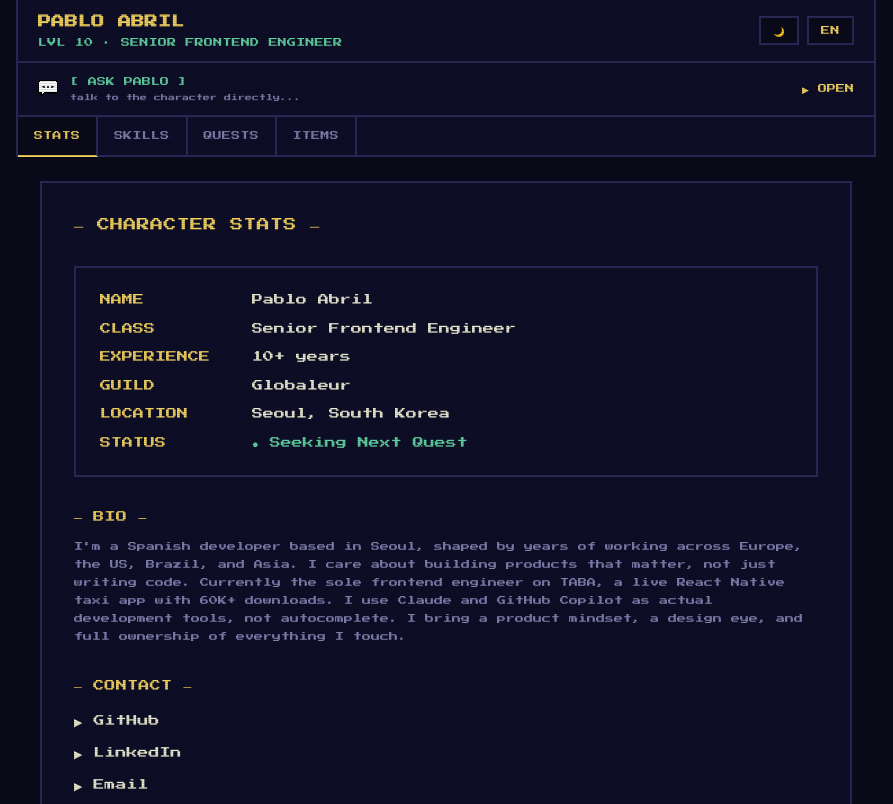
Test: PortfolioScreen tab navigation › switches to SKILLS section when SKILLS tab is clicked
Click the button "SKILLS": (143, 136) x1=98 y1=117 x2=188 y2=154
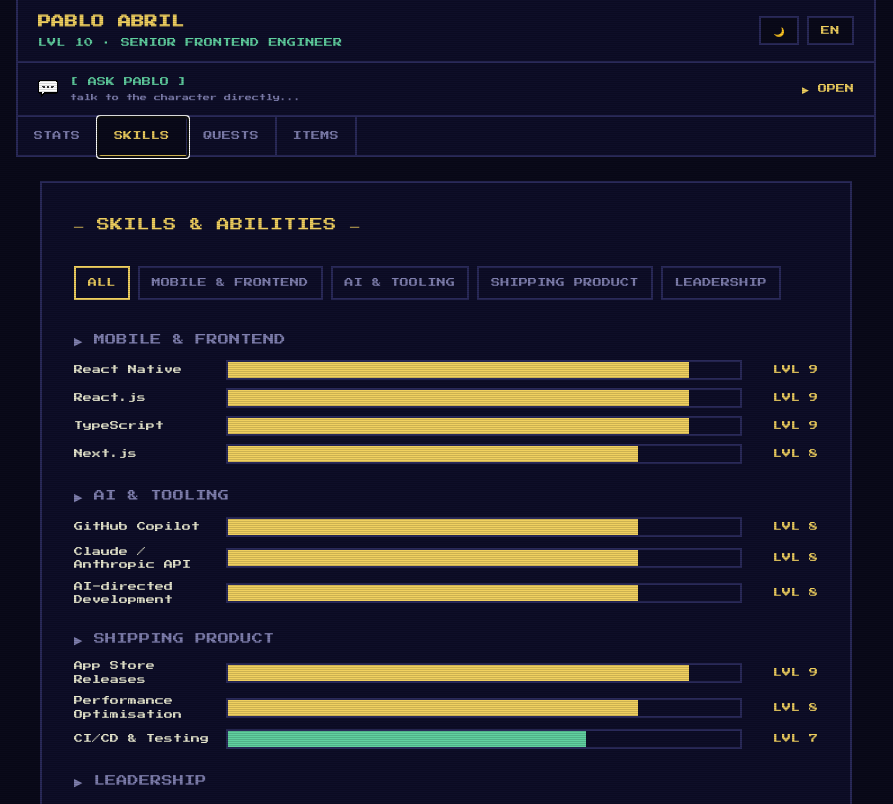
Expected: the heading "─ SKILLS & ABILITIES ─" is shown, x1=74 y1=218 x2=360 y2=230
